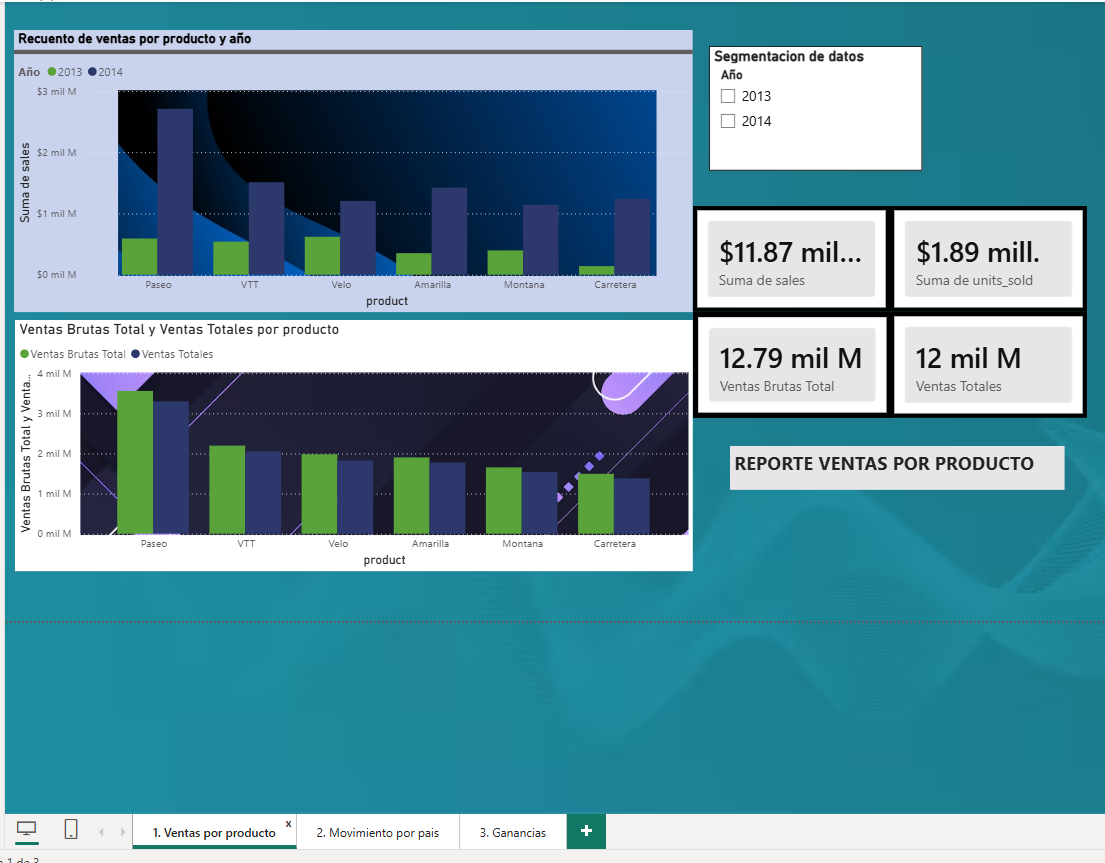

The dashboard page shown, as its layout file describes it:
{"tool":"powerbi","page":{"name":"1. Ventas por producto","canvas":[1280,720],"ordinal":0},"visuals":[{"type":"clusteredColumnChart","title":"Recuento de ventas por producto y año","fields":{"Series":["staging_raw.year"],"Category":["staging_raw.product"],"Y":["Sum(staging_raw.sales)"]},"box":[10.5,32.6,789.4,327.8],"z":0},{"type":"slicer","title":"Segmentacion de datos","fields":{"Values":["staging_raw.year"]},"box":[818.5,51.2,247.6,145.3],"z":1},{"type":"cardVisual","fields":{"Data":["Sum(staging_raw.sales)"]},"box":[799.9,237.2,229,123.2],"z":2},{"type":"cardVisual","fields":{"Data":["Sum(staging_raw.units_sold)"]},"box":[1028.9,237.2,229,123.2],"z":4},{"type":"cardVisual","fields":{"Data":["staging_raw.Ventas Totales"]},"box":[1028.9,360.4,229,123.2],"z":5},{"type":"cardVisual","fields":{"Data":["staging_raw.Ventas Brutas Total"]},"box":[799.9,360.4,231.4,123.2],"z":6},{"type":"clusteredColumnChart","title":"Ventas Brutas Total y Ventas Totales por producto","fields":{"Y":["staging_raw.Ventas Brutas Total","staging_raw.Ventas Totales"],"Category":["staging_raw.product"]},"box":[11.6,369.7,788.2,291.8],"z":7},{"type":"textbox","box":[842.9,516.2,389.5,51.2],"z":8}]}

Visuals, with their boxes in screenshot pixels (x1, y1, x2, y2):
"Recuento de ventas por producto y año" clusteredColumnChart: Rect(18, 31, 690, 310)
"Segmentacion de datos" slicer: Rect(705, 46, 916, 170)
cardVisual - Sum(staging_raw.sales): Rect(690, 205, 885, 310)
cardVisual - Sum(staging_raw.units_sold): Rect(885, 205, 1080, 310)
cardVisual - staging_raw.Ventas Totales: Rect(885, 310, 1080, 415)
cardVisual - staging_raw.Ventas Brutas Total: Rect(690, 310, 887, 415)
"Ventas Brutas Total y Ventas Totales por producto" clusteredColumnChart: Rect(19, 318, 690, 566)
textbox: Rect(726, 442, 1058, 486)
